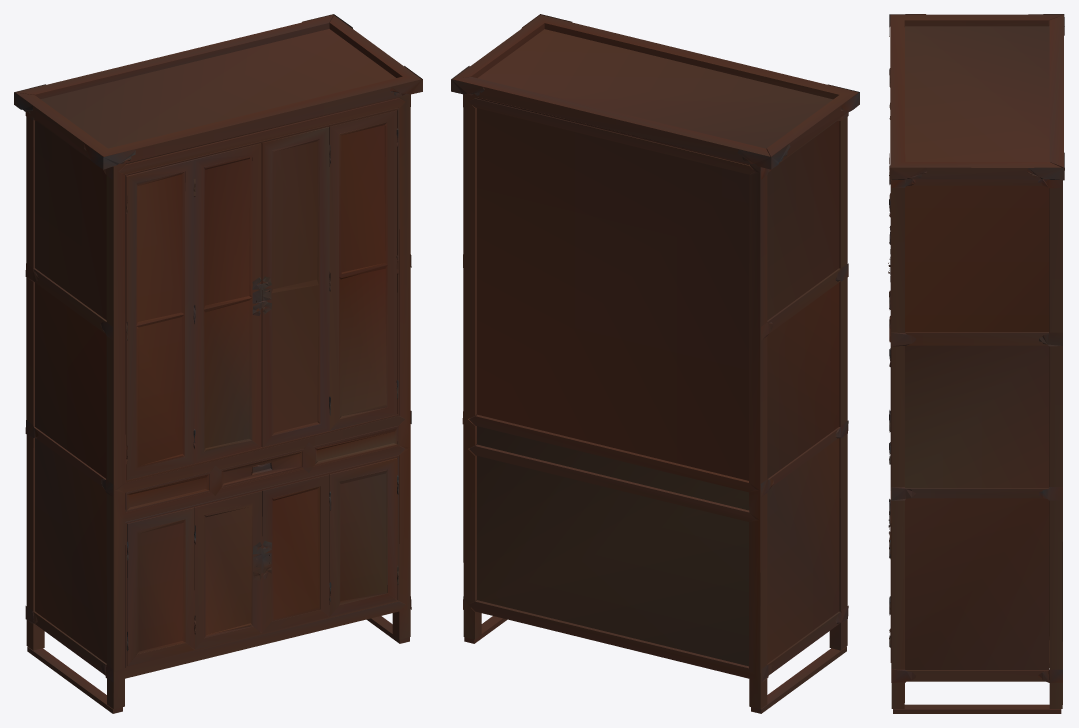
Rendered from unhyun_cupboard_b_4431ceaa.glb.
The picture shows the model from 3 angles, left to right: view 1: azimuth 30°, elevation 25°; view 2: azimuth 150°, elevation 25°; view 3: azimuth 270°, elevation 25°; orthographic projection.
Visible parts, largest first — view 1: SM_Unhyun_Cupboard226_body_M_Cupboard226_0; view 2: SM_Unhyun_Cupboard226_body_M_Cupboard226_0; view 3: SM_Unhyun_Cupboard226_body_M_Cupboard226_0.
Boxes of the visible parts, box(x1,y1,x2,y2) form: SM_Unhyun_Cupboard226_body_M_Cupboard226_0: box(14, 14, 422, 713); SM_Unhyun_Cupboard226_body_M_Cupboard226_0: box(451, 14, 859, 713); SM_Unhyun_Cupboard226_body_M_Cupboard226_0: box(888, 14, 1064, 713).
Bounding box in the file's own units: 1.19 × 1.98 × 0.5767.
